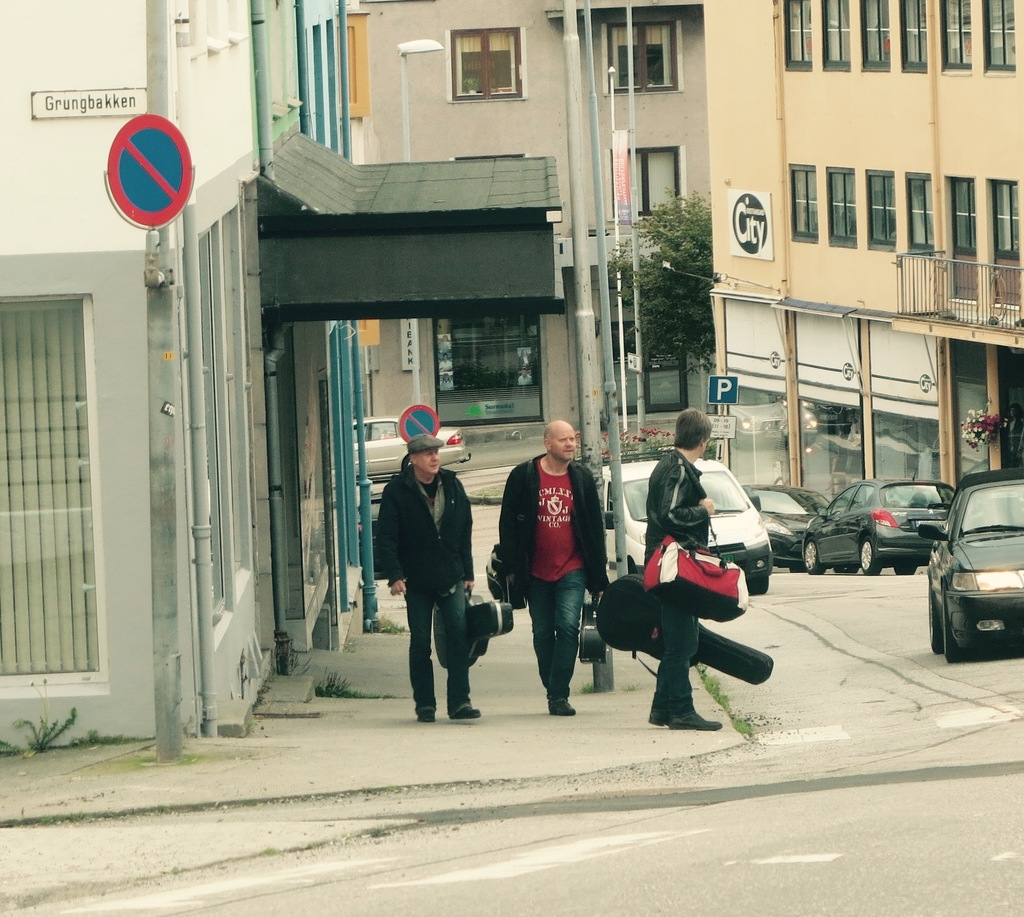no_entry: (107, 115, 200, 229), (395, 402, 443, 444)
parking: (710, 375, 740, 402)
